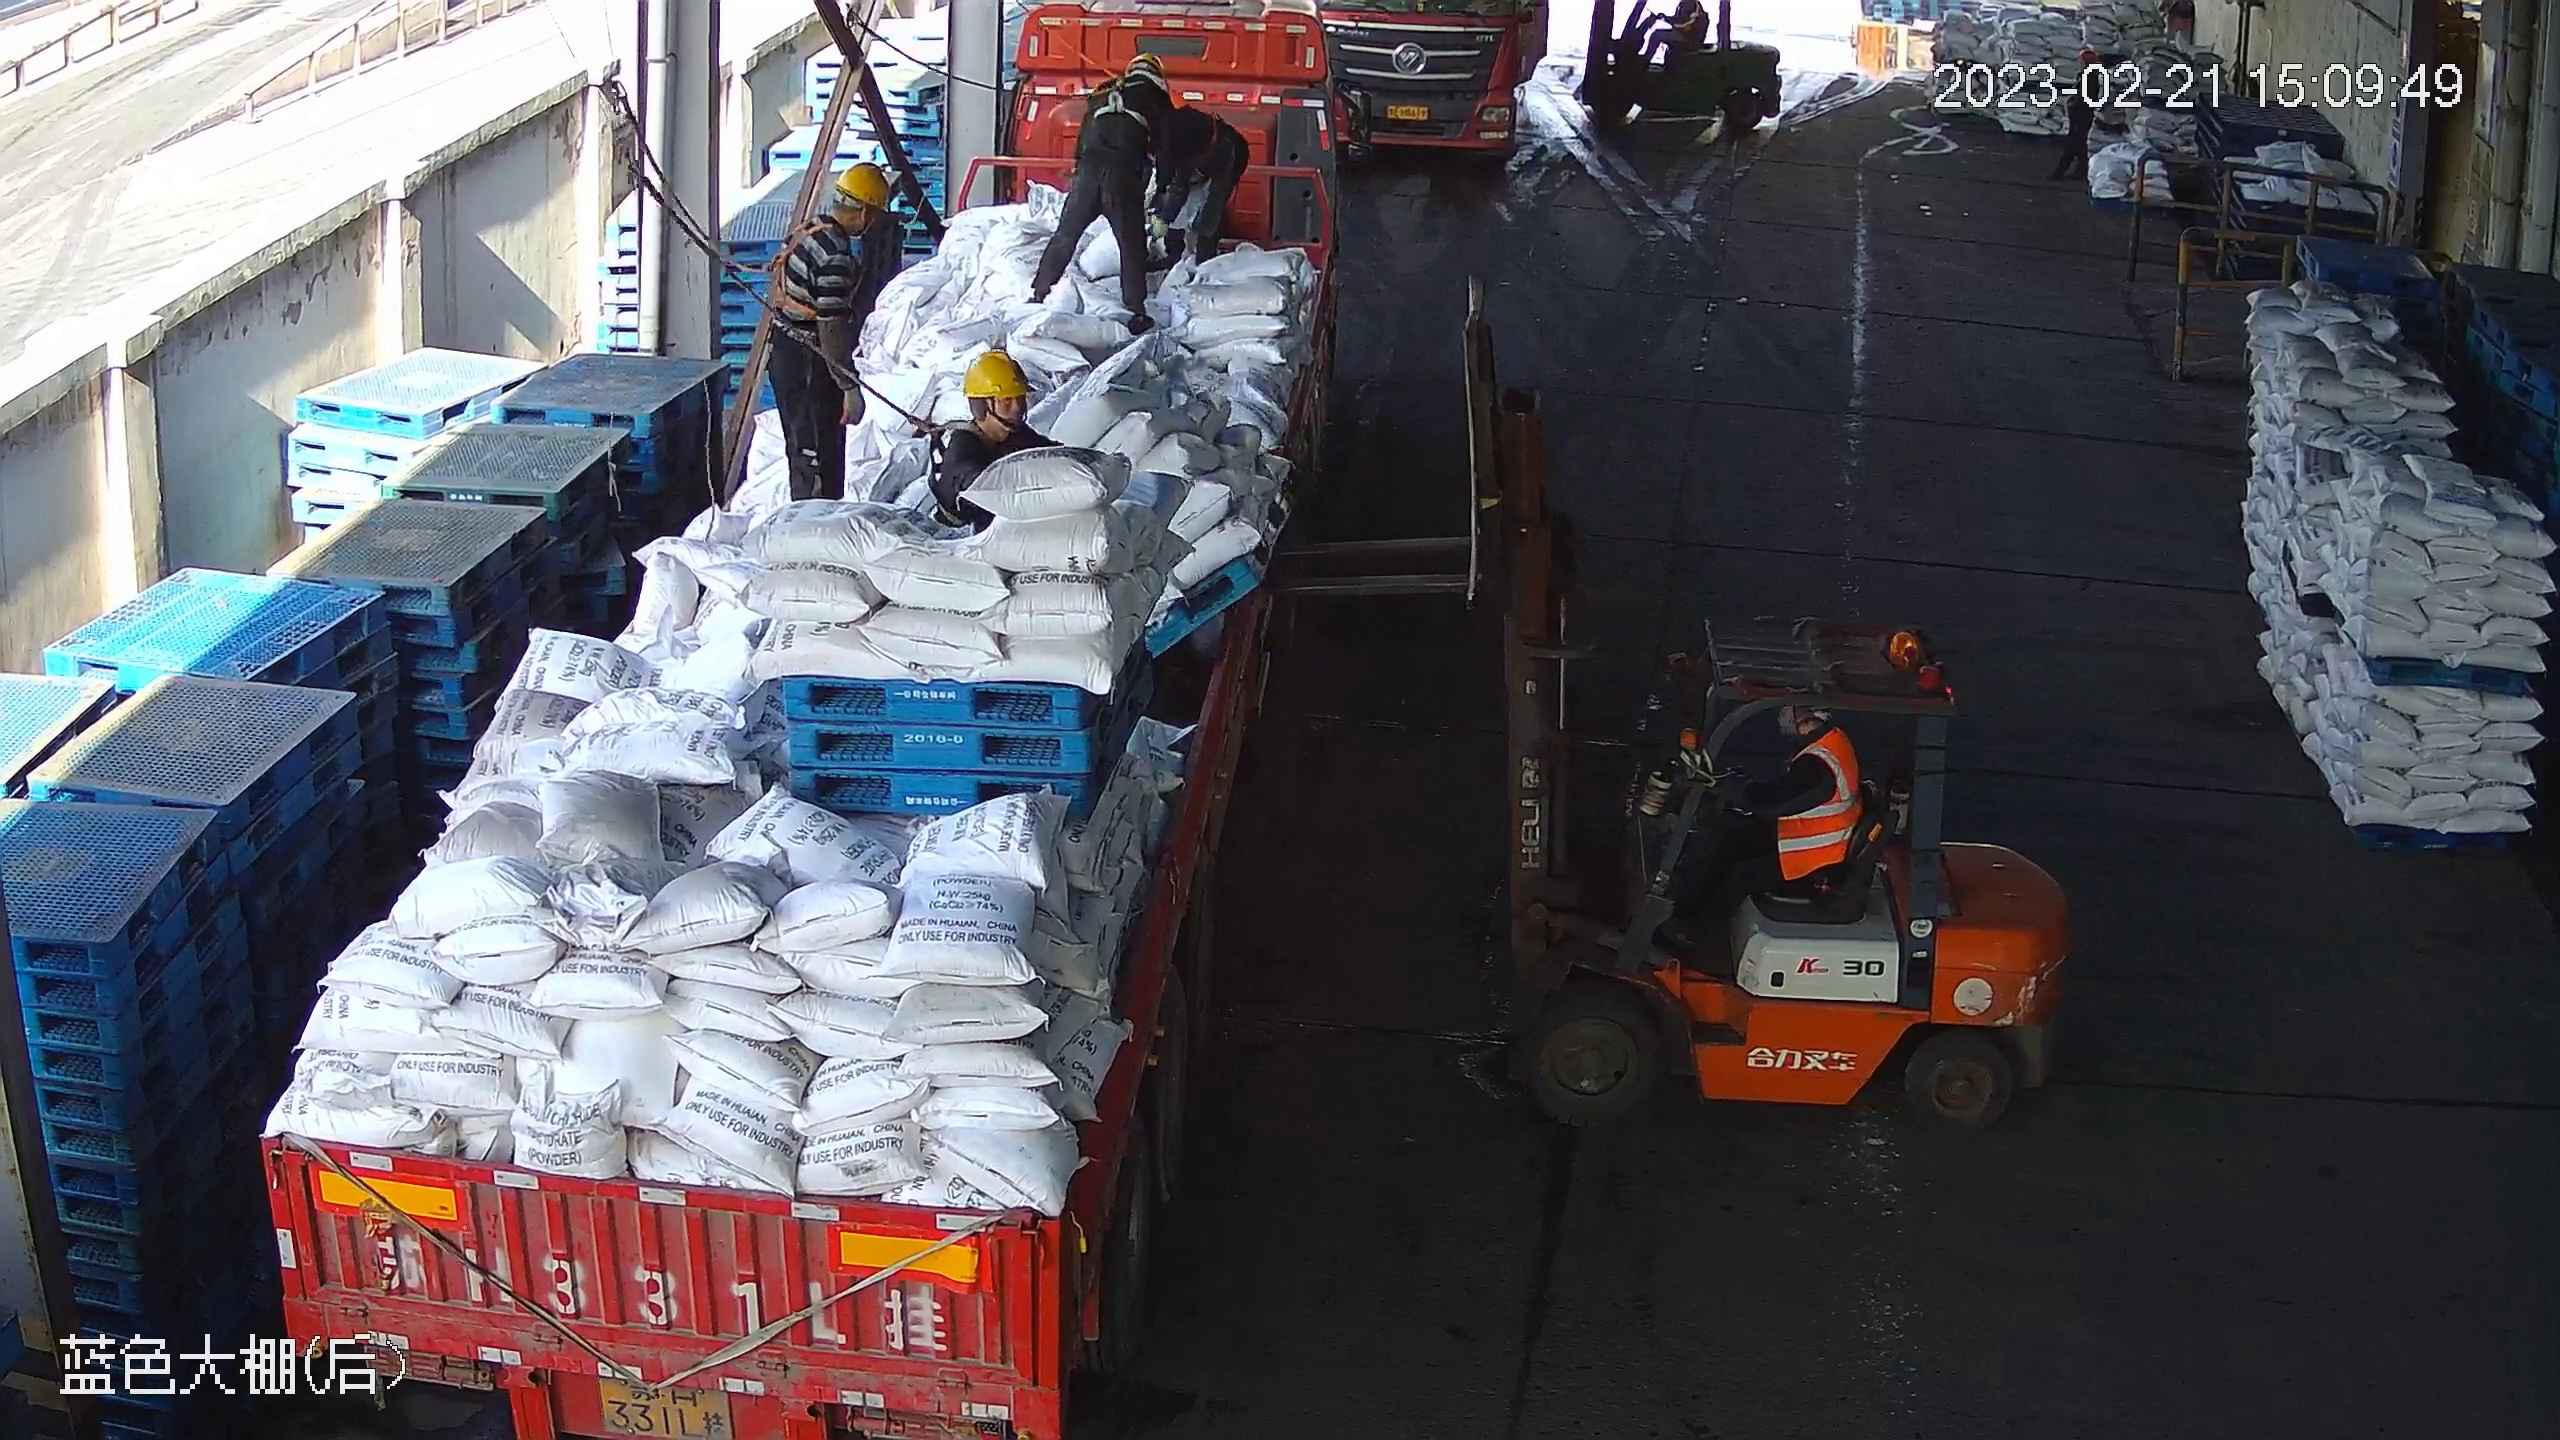head: (933, 352, 1041, 495), (788, 161, 888, 270), (1076, 51, 1167, 164), (2056, 47, 2104, 101)
helmet: (829, 164, 891, 214), (965, 354, 1029, 399), (2073, 47, 2099, 63)
people: (1665, 701, 1857, 942), (762, 161, 890, 499), (1036, 51, 1165, 337), (1148, 101, 1245, 266), (2053, 47, 2101, 180)
truck: (253, 16, 1359, 1440), (1321, 1, 1555, 171)
